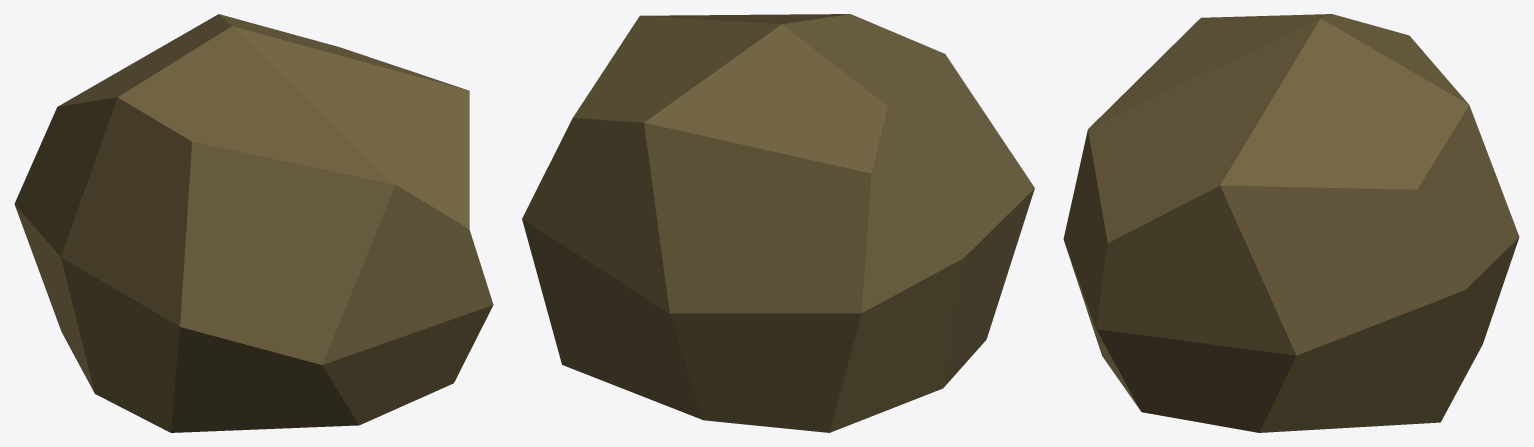
File: rock 2.fbx
3 renders of one model, left to right at view 1: azimuth 30°, elevation 25°; view 2: azimuth 150°, elevation 25°; view 3: azimuth 270°, elevation 25°, orthographic. The views are drawn at different scales.
Visible parts, largest first — view 1: Cube; view 2: Cube; view 3: Cube.
Part boxes in pixels (left/top/right/bottom): Cube: left=14, top=14, right=493, bottom=432; Cube: left=522, top=14, right=1034, bottom=432; Cube: left=1063, top=14, right=1519, bottom=432.
Bounding box in the file's own units: 361 × 292 × 367.
